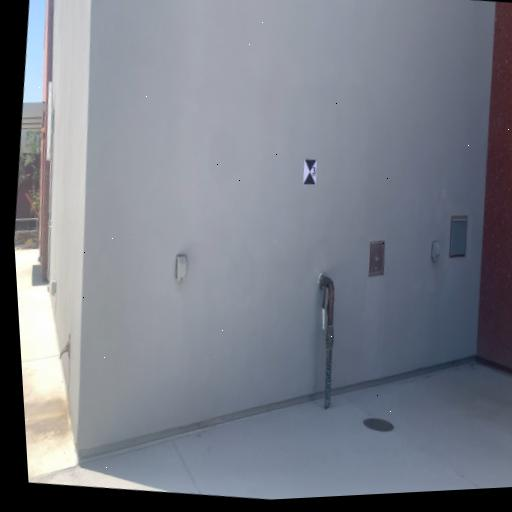target3: (303, 158, 317, 185)
